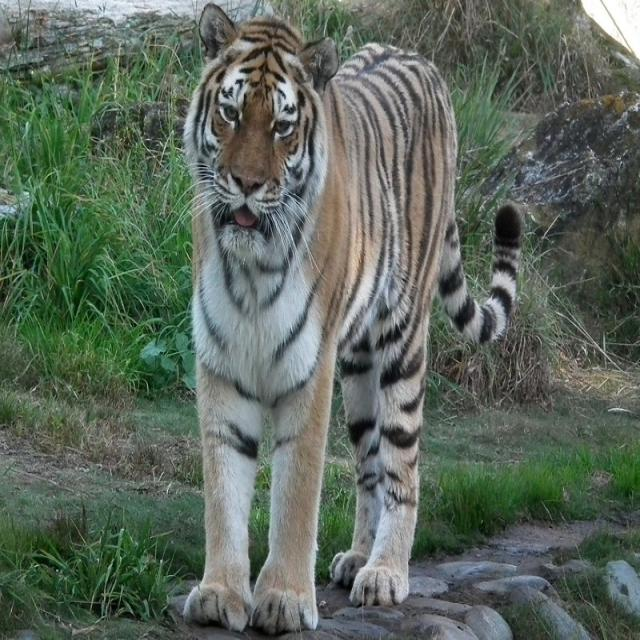Tiger: (174, 0, 522, 625)
